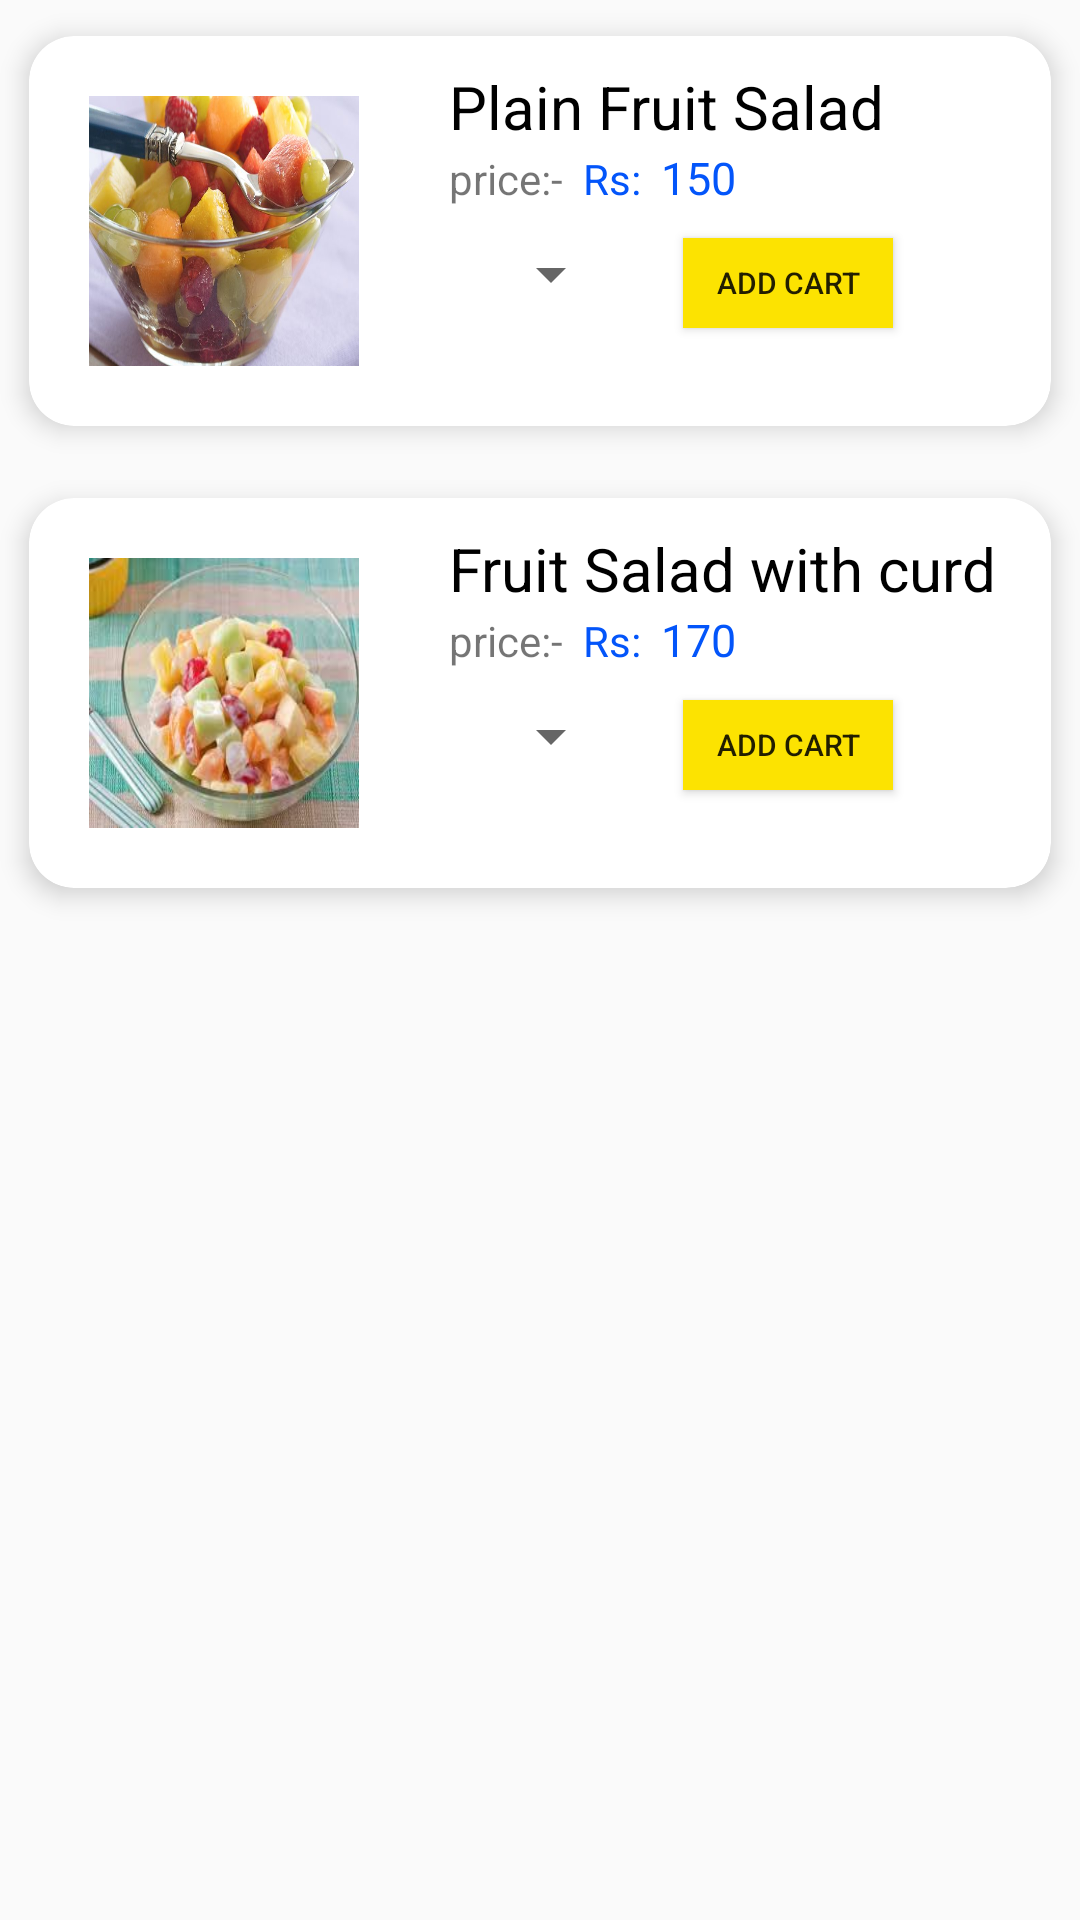

Screen size 1080×1920. Icon name, then its center in pixels as [x,y]:
fresh fruit: [224,231]
